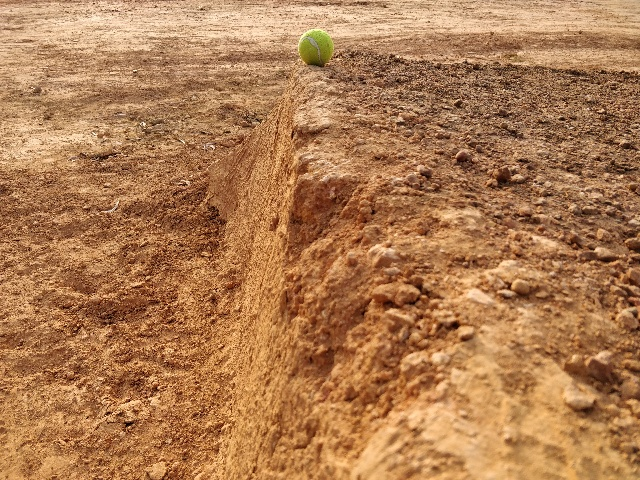ball: (294, 26, 341, 68)
